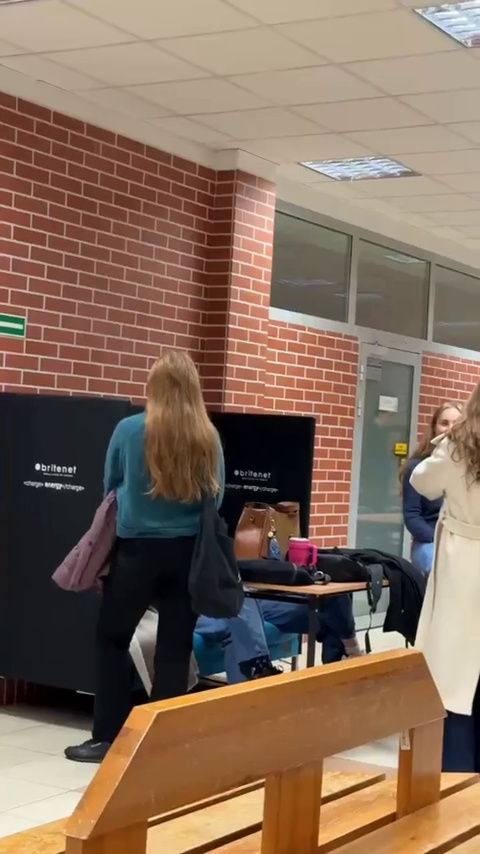no vest: (89, 337, 246, 712), (409, 368, 480, 693)
